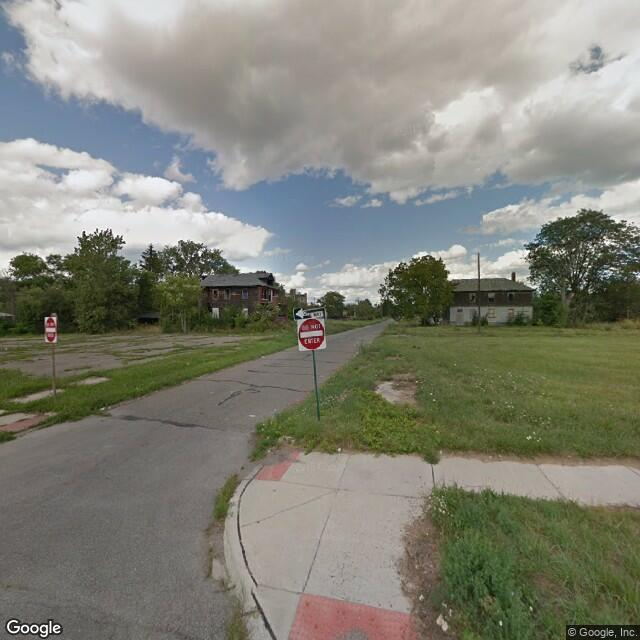litter: (434, 610, 446, 638), (429, 499, 448, 513), (527, 429, 543, 443), (417, 590, 428, 603), (93, 406, 112, 412), (503, 403, 517, 411), (436, 447, 447, 456), (497, 614, 504, 628), (331, 448, 346, 454), (528, 604, 535, 613), (245, 414, 256, 419), (429, 399, 438, 404), (425, 391, 435, 395)
